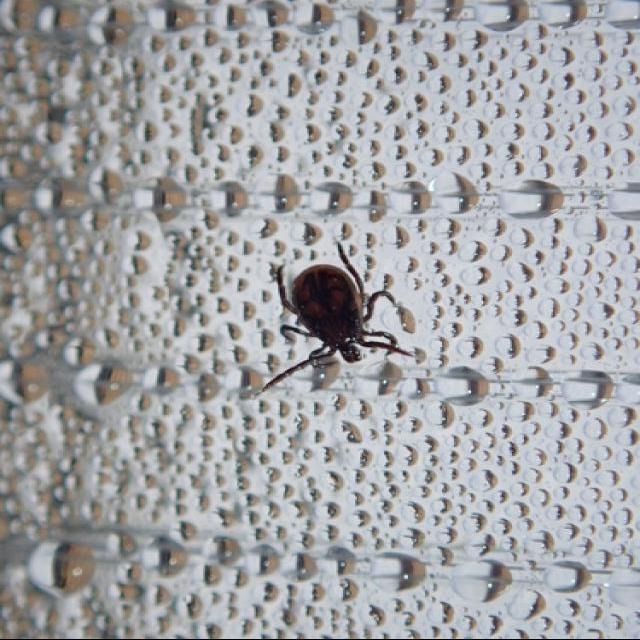Ixodes Ricinus-M: (239, 260, 425, 399)
